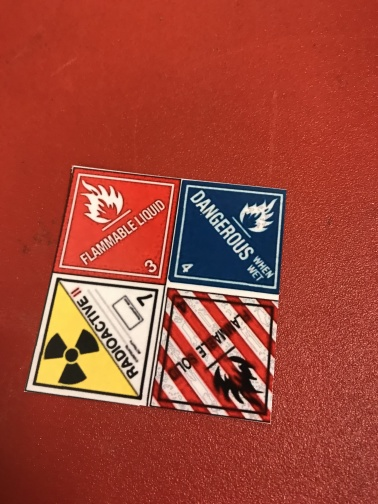DangerousWhenWet: (171, 179, 285, 294)
FlammableLiquid: (52, 165, 181, 284)
FlammableSolid: (151, 287, 281, 424)
Radioactive: (28, 273, 165, 407)
